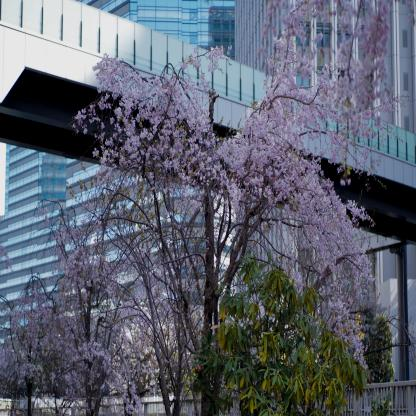ShidareZakura: (69, 0, 416, 416), (0, 198, 144, 416), (0, 268, 72, 416)
